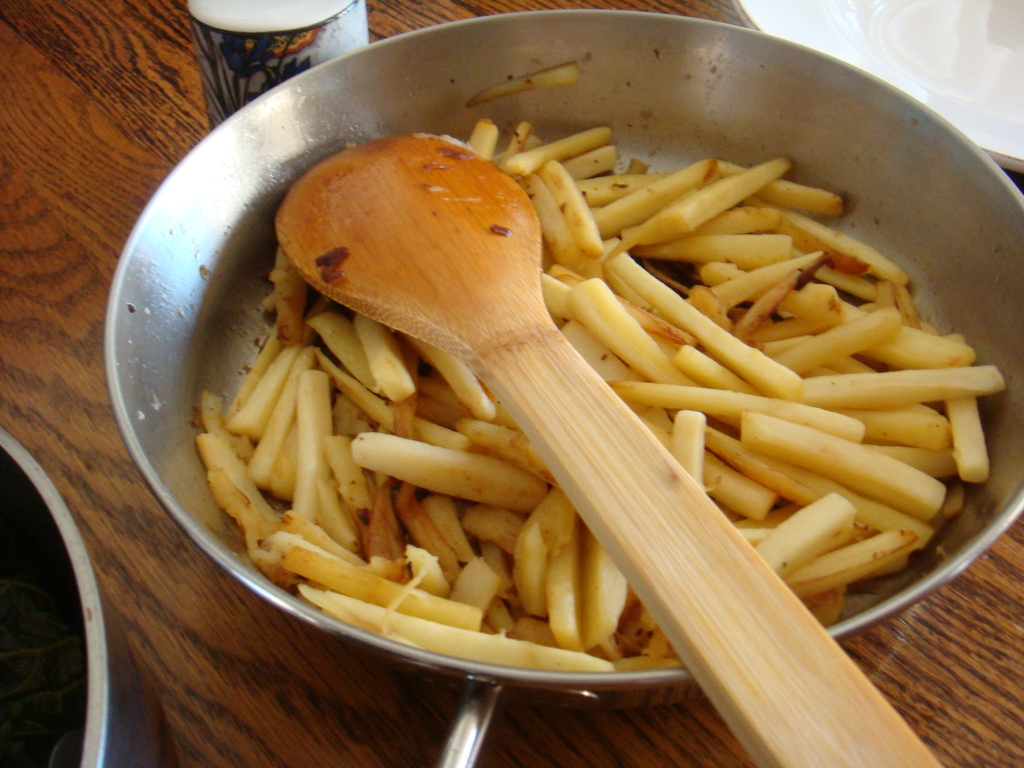French fries: (329, 86, 945, 682)
